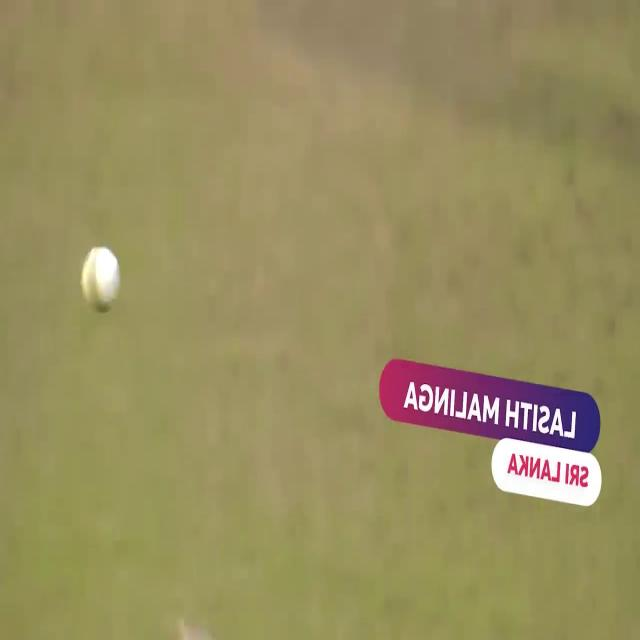ball: (80, 248, 120, 319)
